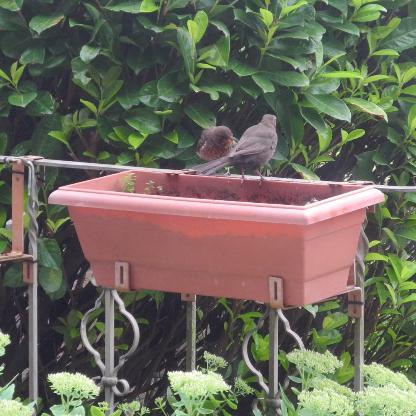Bird: (195, 124, 235, 176)
